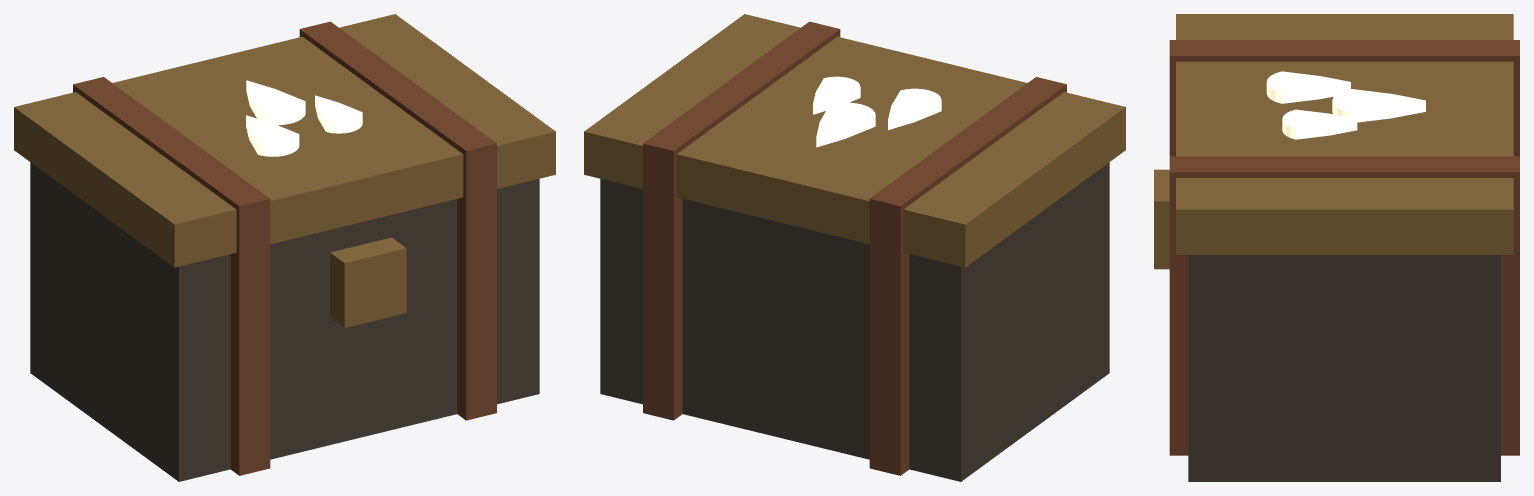
Rendered from sealed_box_drink.glb.
3 views of the same model, side by side, from view 1: azimuth 30°, elevation 25°; view 2: azimuth 150°, elevation 25°; view 3: azimuth 270°, elevation 25° (orthographic). The views are drawn at different scales.
Parts seen in each view (by area): view 1: sealed_box_drink; view 2: sealed_box_drink; view 3: sealed_box_drink.
Part boxes in pixels (x1,y1,x2,y2): sealed_box_drink: (14, 14, 555, 481); sealed_box_drink: (584, 14, 1125, 481); sealed_box_drink: (1154, 14, 1519, 481).
Size of the model in its own units: 0.74 by 0.51 by 0.585.
